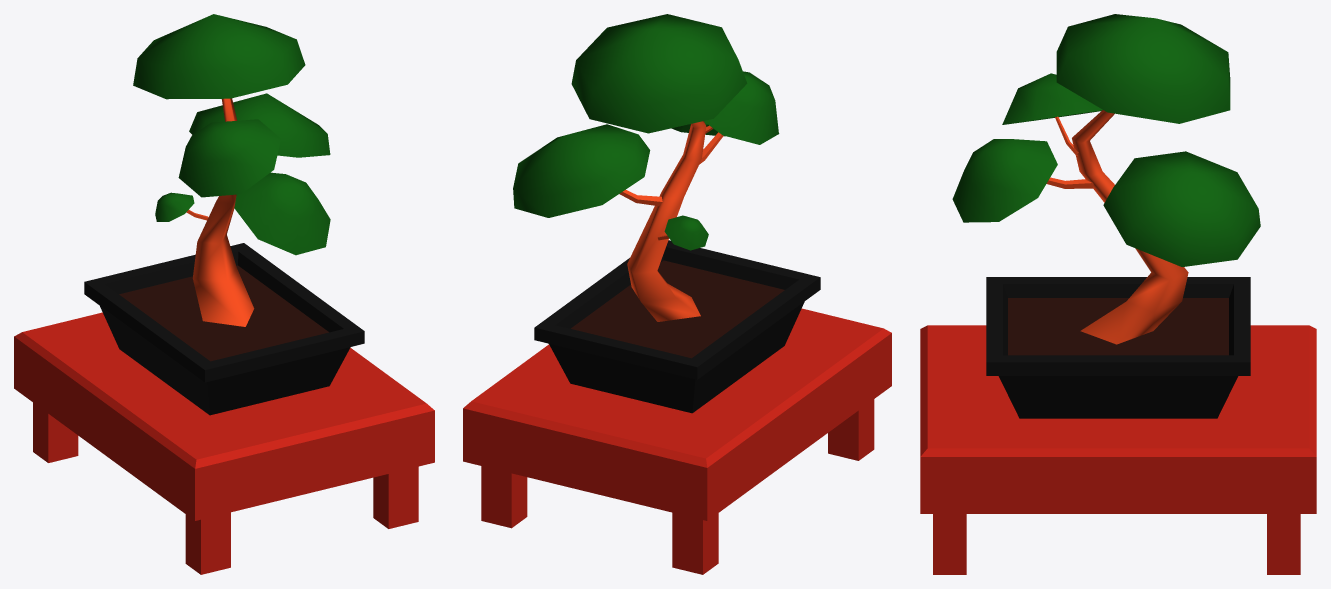
Rendered from Bonsai + base.FBX.
3 renders of one model, left to right at view 1: azimuth 30°, elevation 25°; view 2: azimuth 150°, elevation 25°; view 3: azimuth 270°, elevation 25°, orthographic. The views are drawn at different scales.
Visible parts, largest first — view 1: Object1129; view 2: Object1129; view 3: Object1129.
Part boxes in pixels (left/top/right/bottom): Object1129: left=14, top=14, right=434, bottom=574; Object1129: left=463, top=14, right=891, bottom=574; Object1129: left=920, top=14, right=1316, bottom=574.
Bounding box in the file's own units: 0.9535 × 1.7 × 1.22.
